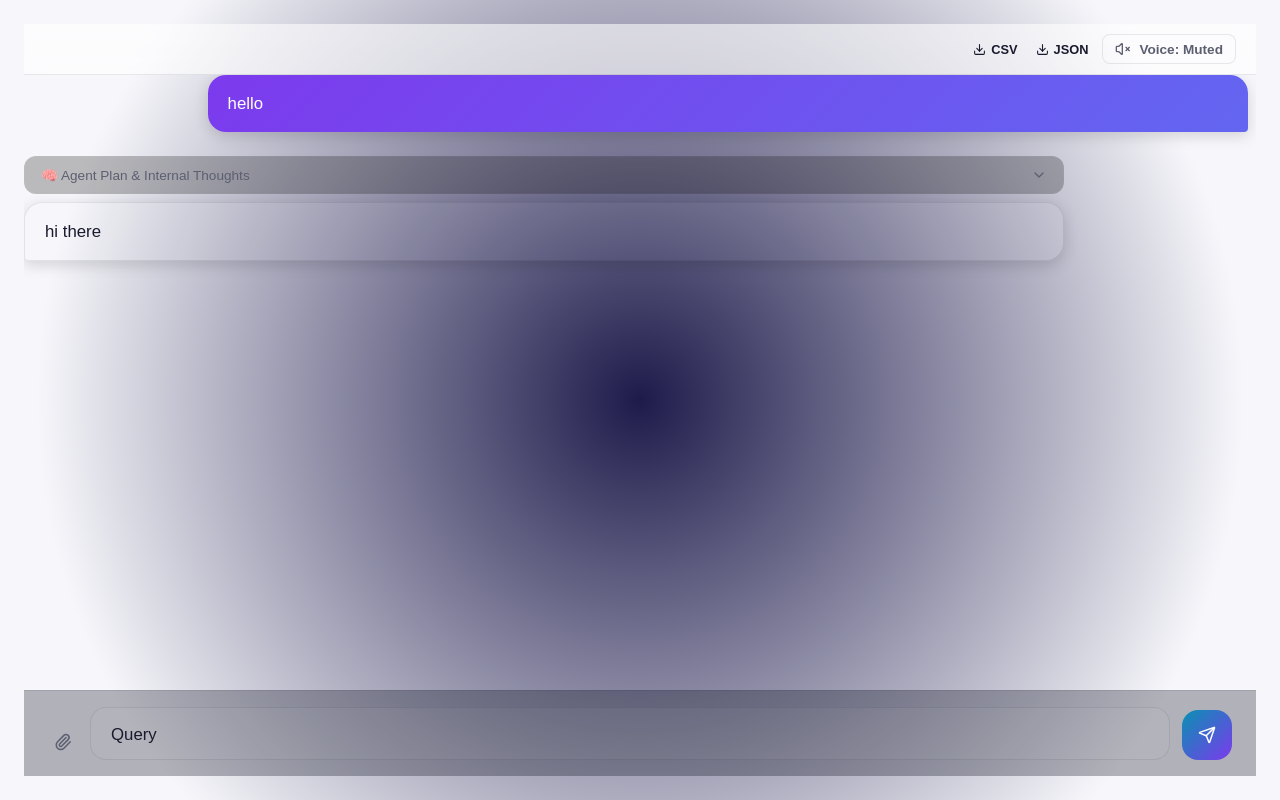
it: ChatPane Component Tests › Voice Mode › clicking the toggle persists the new value to /api/settings/voice-mode
Click the button titled "Unmute Voice Response".
click(1169, 49)  # box [1102,34,1236,64]
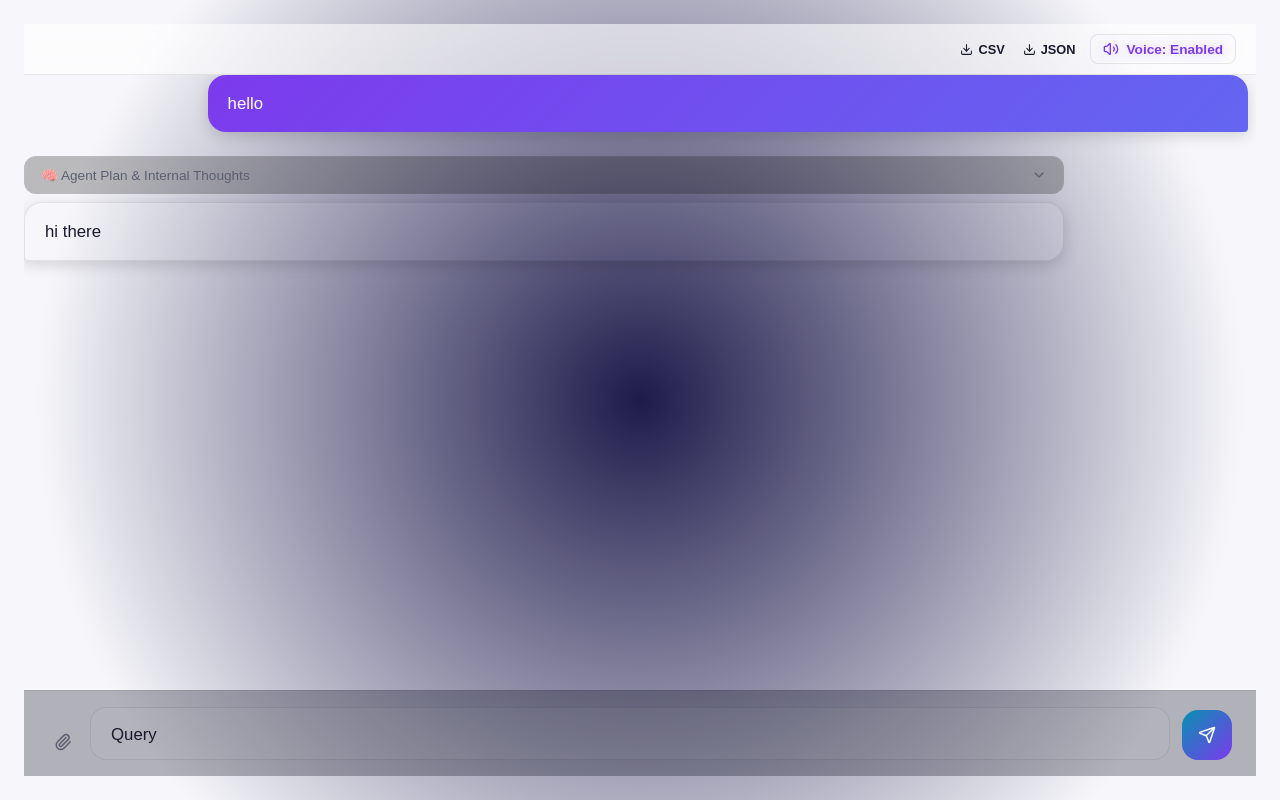
Expected: the text "Voice: Enabled" is shown, [1127,42,1223,56]
